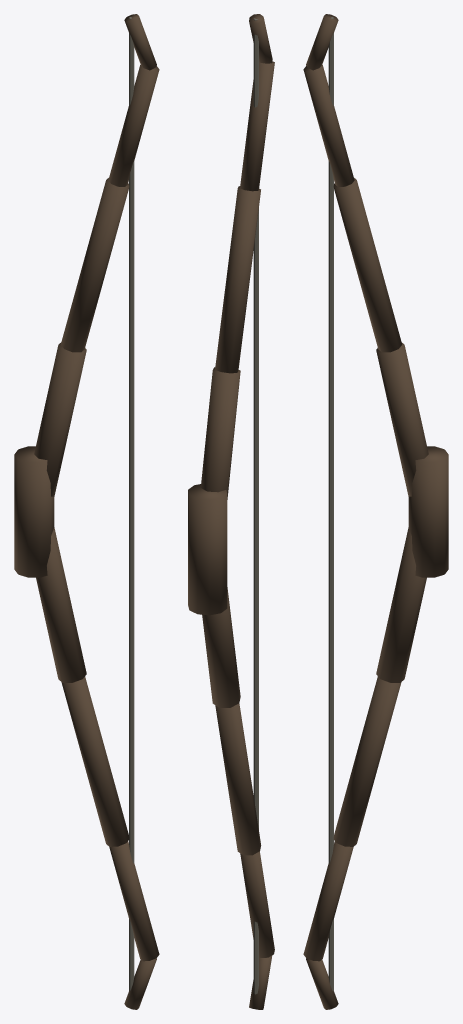
File: bow.glb
3 renders of one model, left to right at view 1: azimuth 90°, elevation 25°; view 2: azimuth 150°, elevation 25°; view 3: azimuth 270°, elevation 25°, orthographic.
Parts seen in each view (by area): view 1: bow; view 2: bow; view 3: bow.
Part boxes in pixels (bbox=[...]): bow: bbox=[14, 14, 159, 1009]; bow: bbox=[188, 14, 274, 1009]; bow: bbox=[303, 14, 448, 1009].
Bounding box in the file's own units: 0.0418 × 1.21 × 0.1597.
